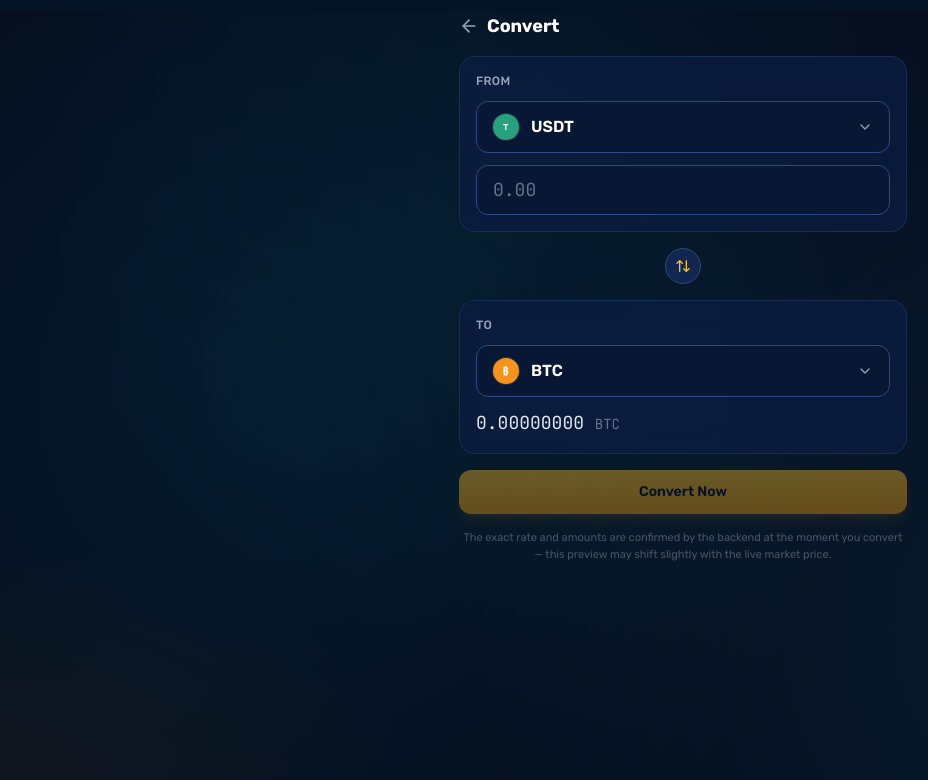
Test case: ConvertPage › defaults to USDT -> BTC and shows a live-price-derived preview, never a fabricated rate
This screenshot has width=928, height=780.
Expected: the text "USDT" is shown, [531,117,574,136]
Expected: the 1st text "BTC" is shown, [531,361,563,380]
In the number field with placeholder "0.00": (683, 190) [476,165,890,215], type "100"
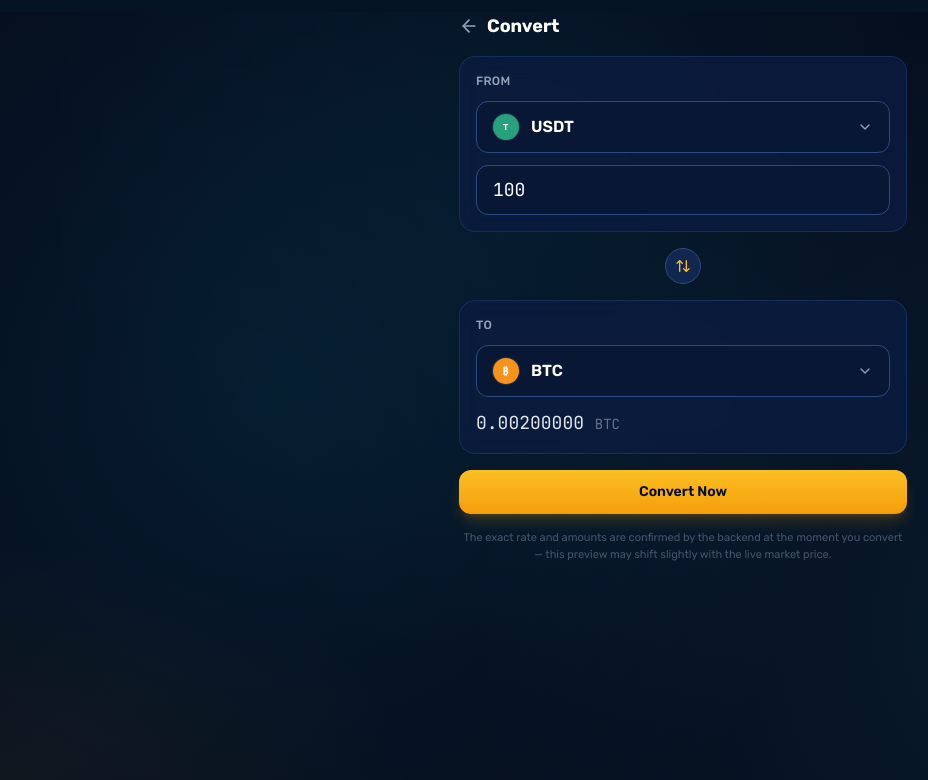
Expected: the text "0.00200000" is shown, [476,411,584,434]
